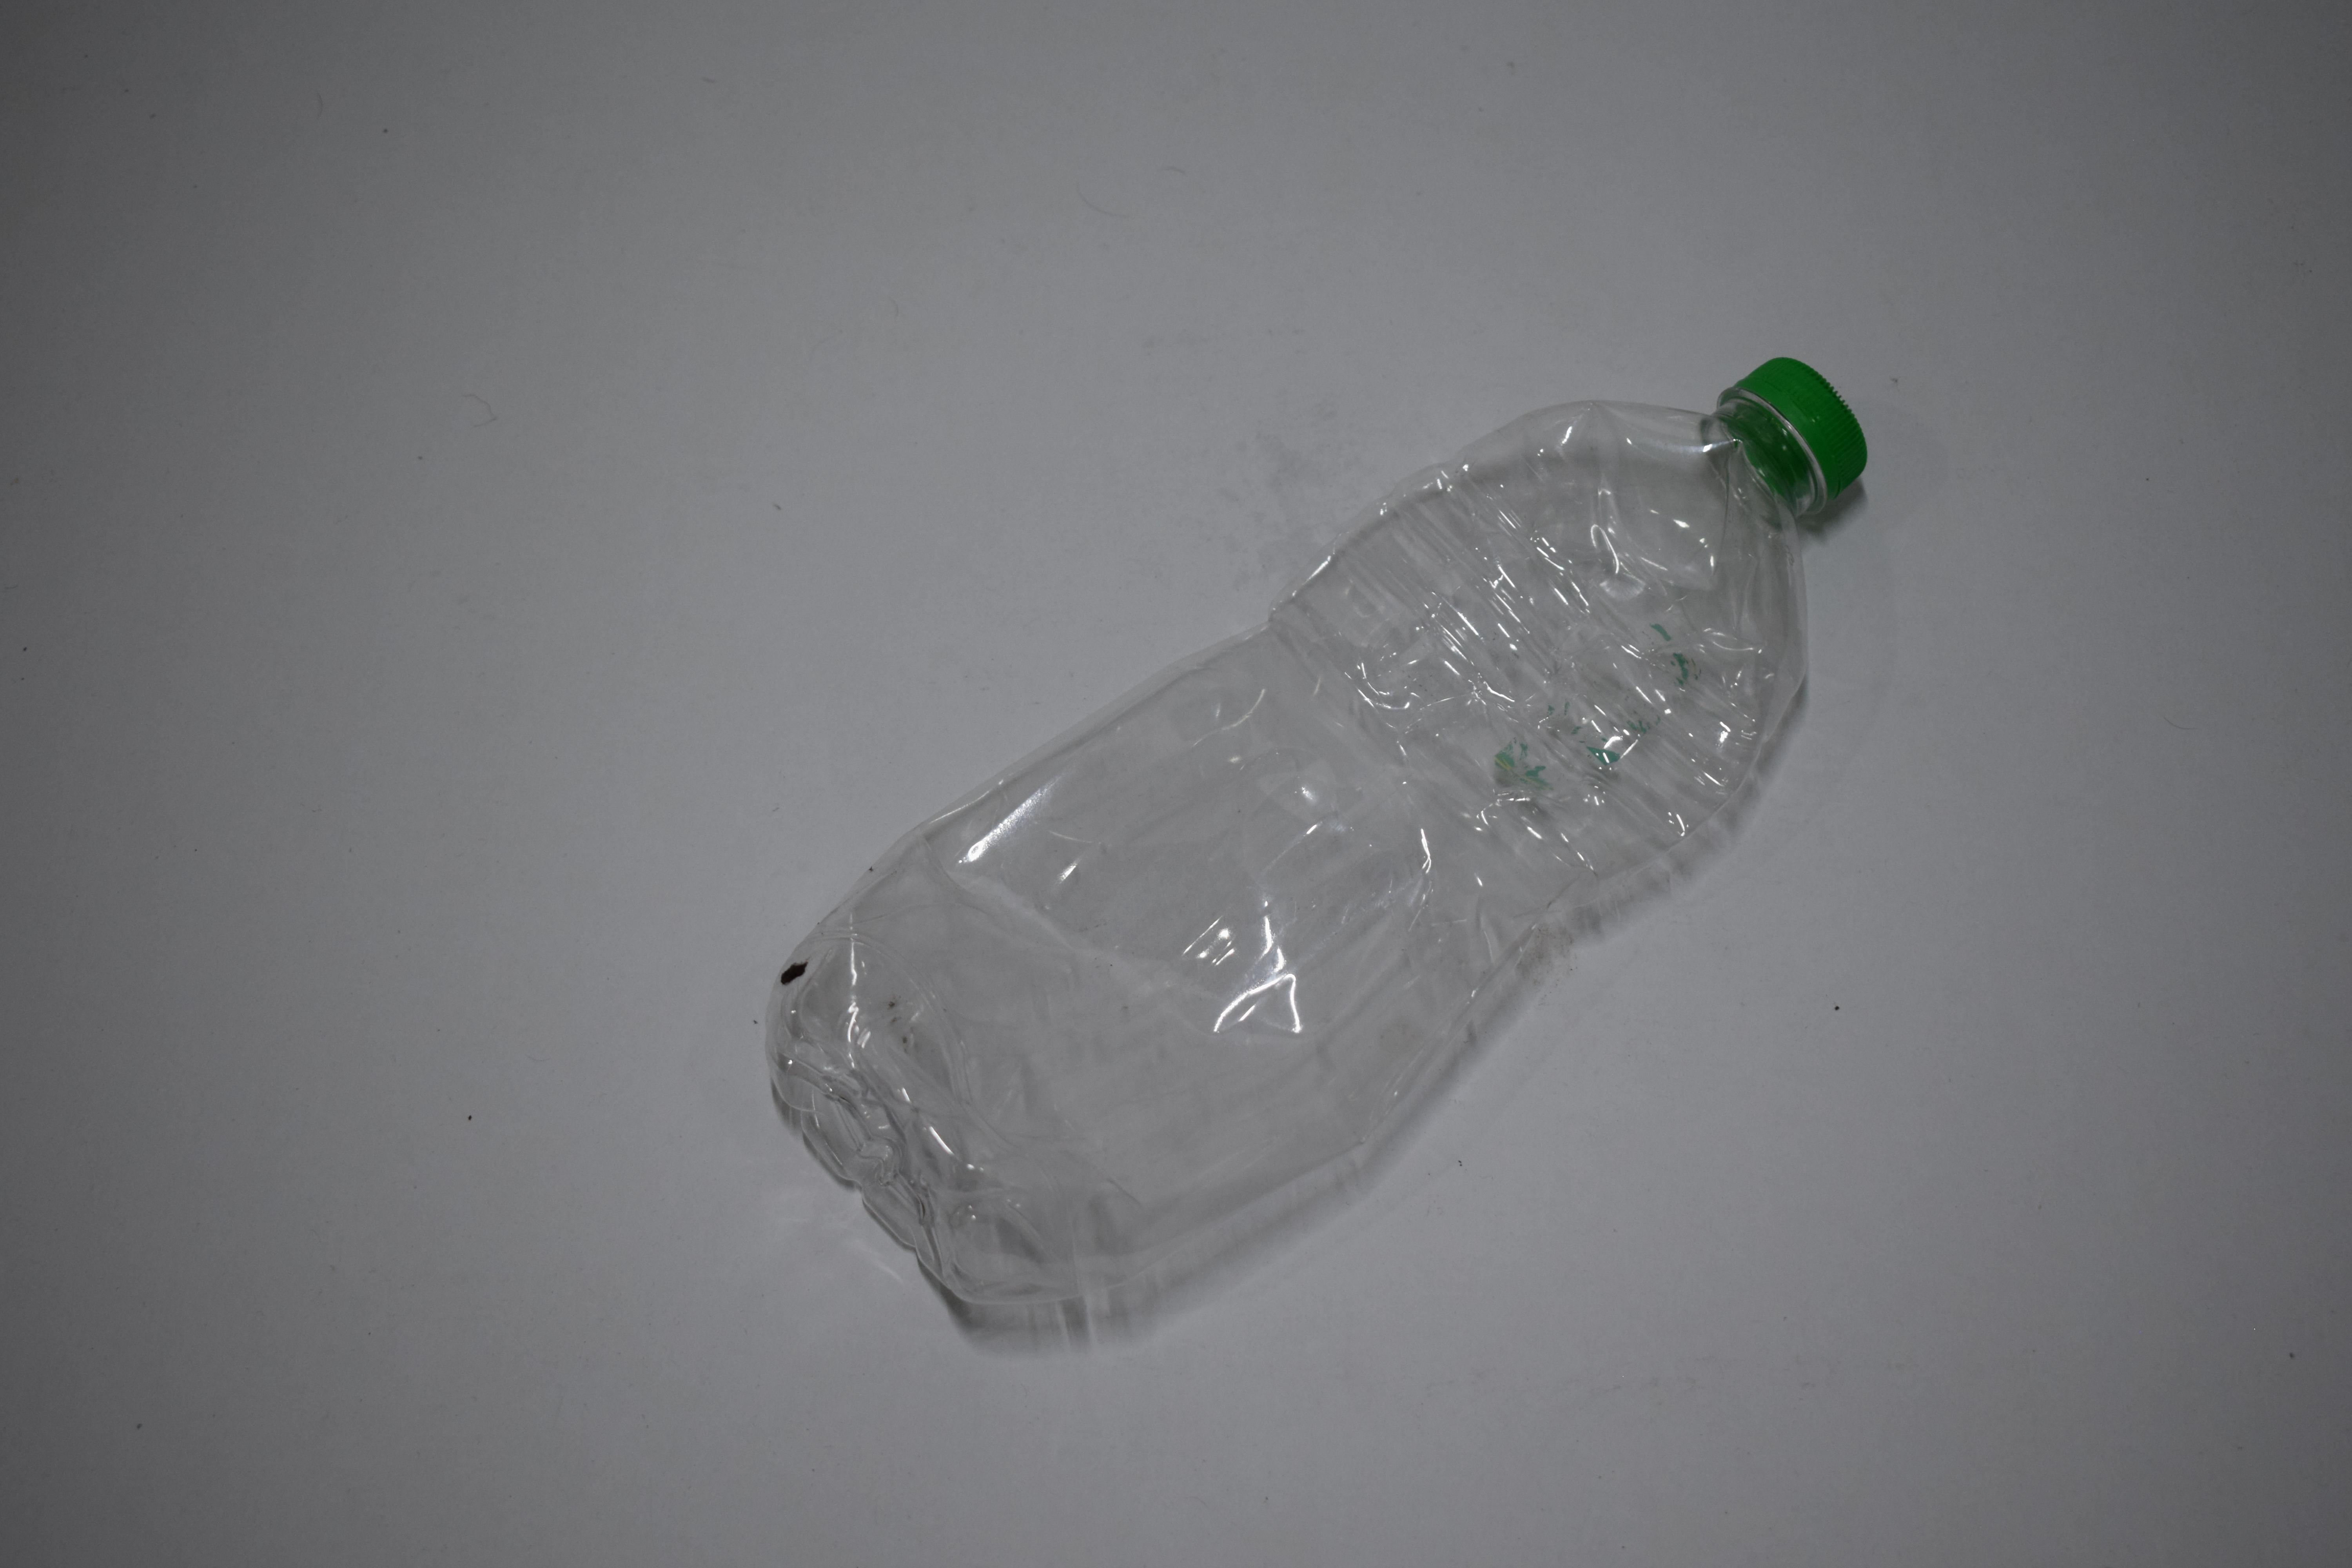bottle: (0, 0, 574, 548)
